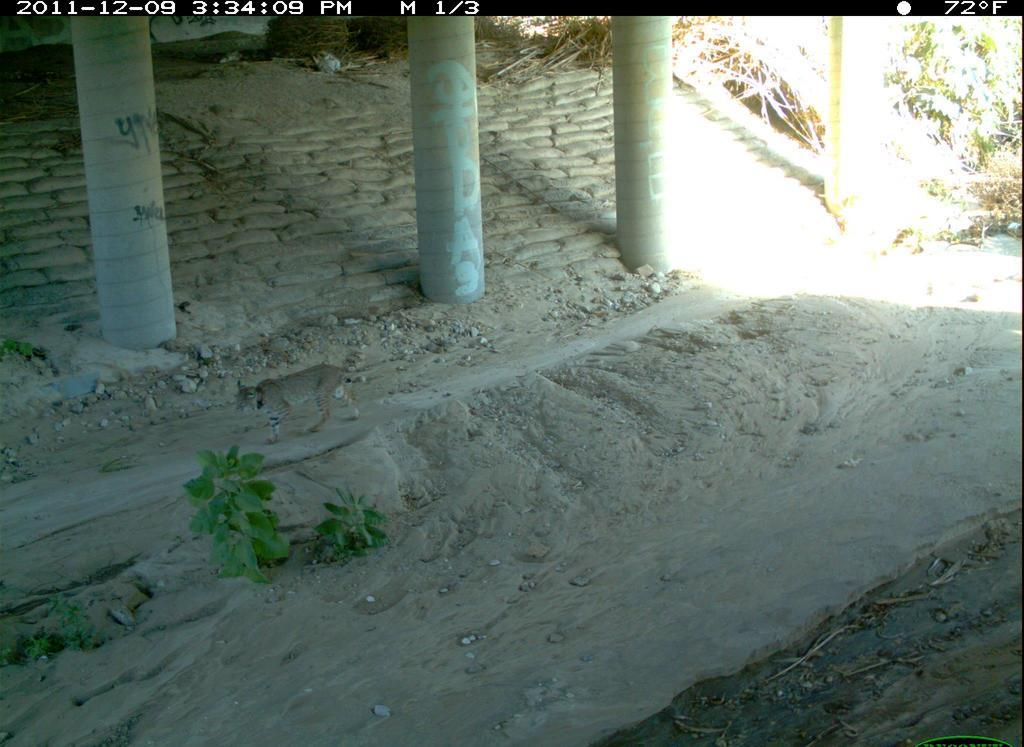bobcat: (457, 719, 742, 747)
